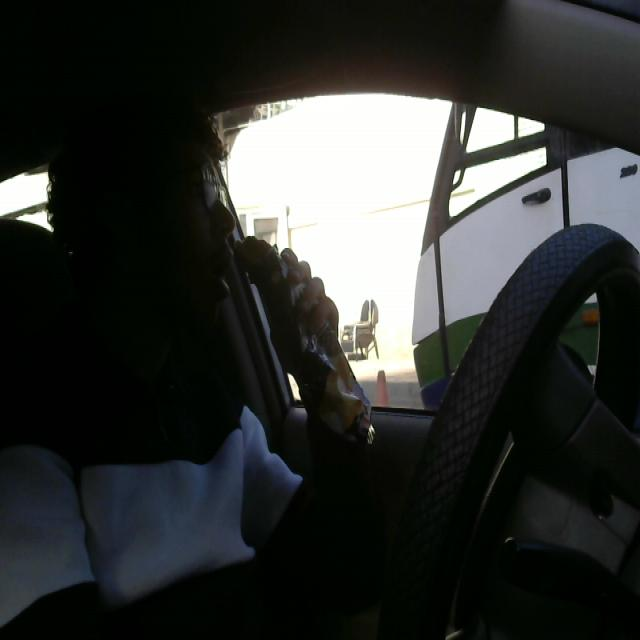eating: (237, 226, 393, 473)
